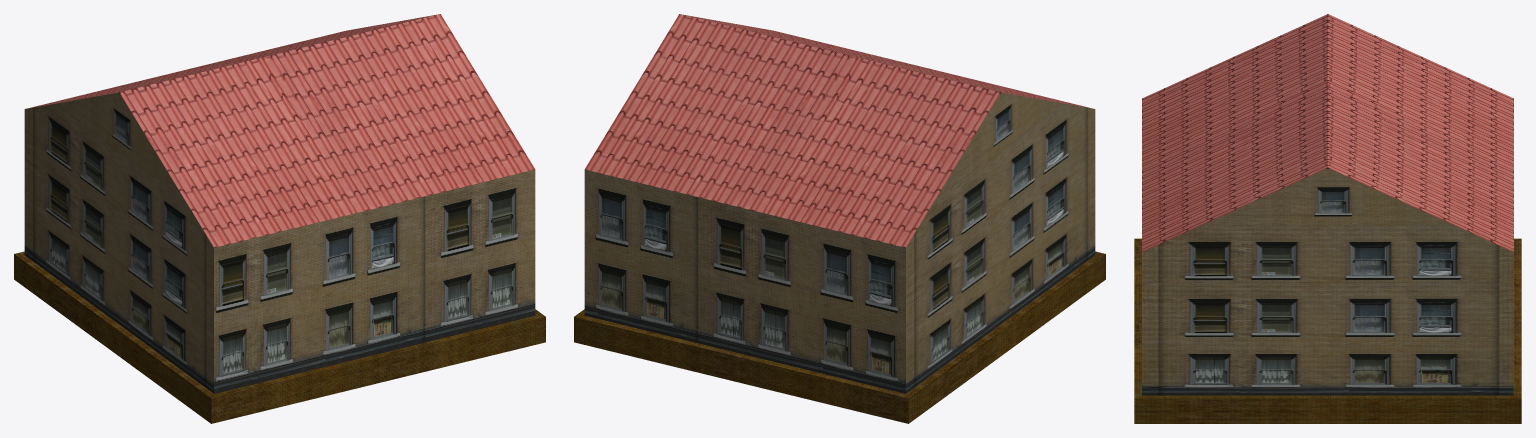
The model's file is house.fbx.
3 renders of one model, left to right at view 1: azimuth 30°, elevation 25°; view 2: azimuth 150°, elevation 25°; view 3: azimuth 270°, elevation 25°, orthographic.
Visible parts, largest first — view 1: pCube5; view 2: pCube5; view 3: pCube5.
Boxes of the visible parts, left/top/right/bottom form: pCube5: left=14, top=14, right=545, bottom=423; pCube5: left=574, top=14, right=1105, bottom=423; pCube5: left=1134, top=14, right=1521, bottom=423.
Bounding box in the file's own units: 8.52 × 6.27 × 8.71.
7 materials, 7 textured.
